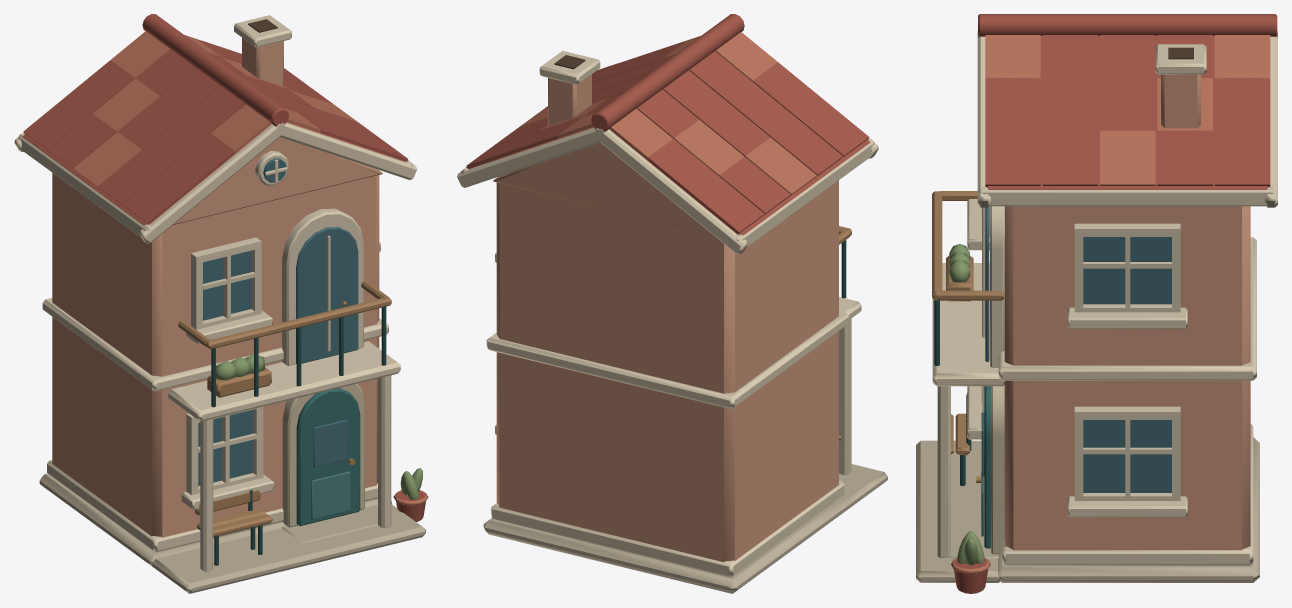
Rendered from house_level_3.glb.
3 views of the same model, side by side, from view 1: azimuth 30°, elevation 25°; view 2: azimuth 150°, elevation 25°; view 3: azimuth 270°, elevation 25° (orthographic). The views are drawn at different scales.
Parts seen in each view (by area): view 1: house_level_3_runtime; view 2: house_level_3_runtime; view 3: house_level_3_runtime.
Part boxes in pixels (x1,y1,x2,y2): house_level_3_runtime: (14, 14, 428, 593); house_level_3_runtime: (457, 14, 887, 593); house_level_3_runtime: (916, 14, 1277, 593).
Size of the model in its own units: 3.61 by 5.43 by 3.53.
